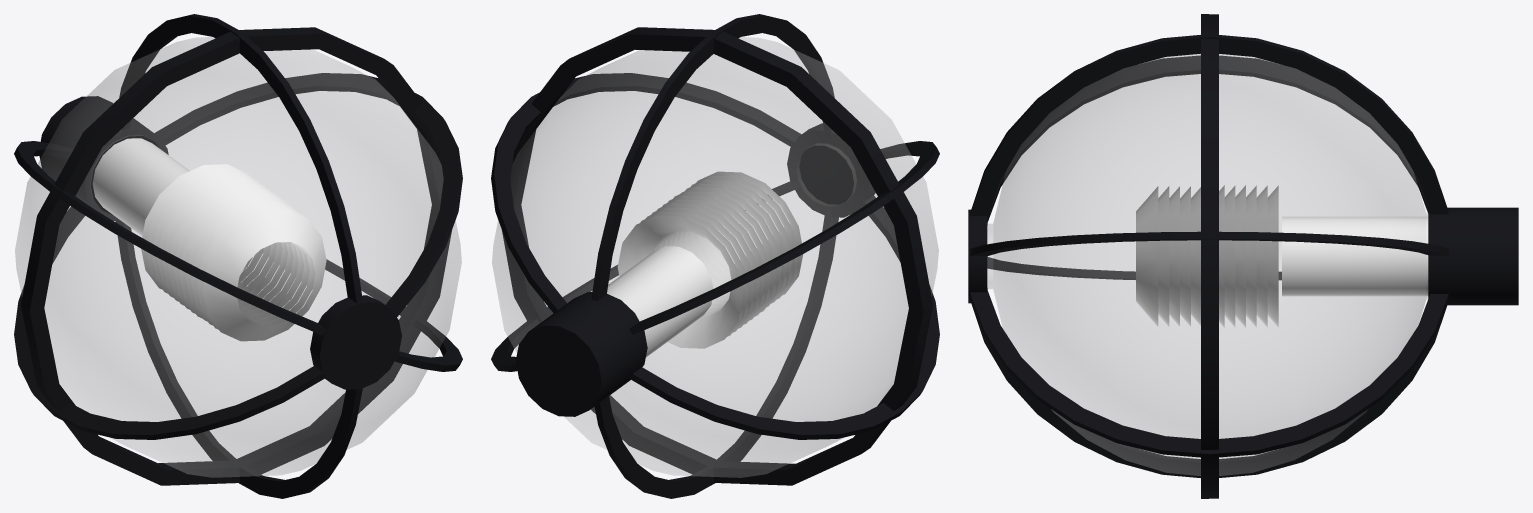
Rendered from Globus.obj.
3 renders of one model, left to right at view 1: azimuth 30°, elevation 25°; view 2: azimuth 150°, elevation 25°; view 3: azimuth 270°, elevation 25°, orthographic.
Parts seen in each view (by area): view 1: Glas_Sphere, BezierCurve.002_BezierCurve.001, Sphere.001_Sphere.008; view 2: Glas_Sphere, BezierCurve.002_BezierCurve.001, Sphere.001_Sphere.008; view 3: Glas_Sphere, BezierCurve.002_BezierCurve.001, Sphere.001_Sphere.008.
Boxes of the visible parts, x1,y1,x2,y2 form: Glas_Sphere: [15, 37, 461, 477]; BezierCurve.002_BezierCurve.001: [21, 27, 451, 485]; Sphere.001_Sphere.008: [14, 14, 462, 498]; Glas_Sphere: [492, 37, 938, 477]; BezierCurve.002_BezierCurve.001: [502, 27, 932, 485]; Sphere.001_Sphere.008: [491, 14, 939, 498]; Glas_Sphere: [987, 54, 1427, 475]; BezierCurve.002_BezierCurve.001: [968, 14, 1518, 498]; Sphere.001_Sphere.008: [970, 34, 1448, 477].
Size of the model in its own units: 0.5496 by 0.5521 by 0.6231.
